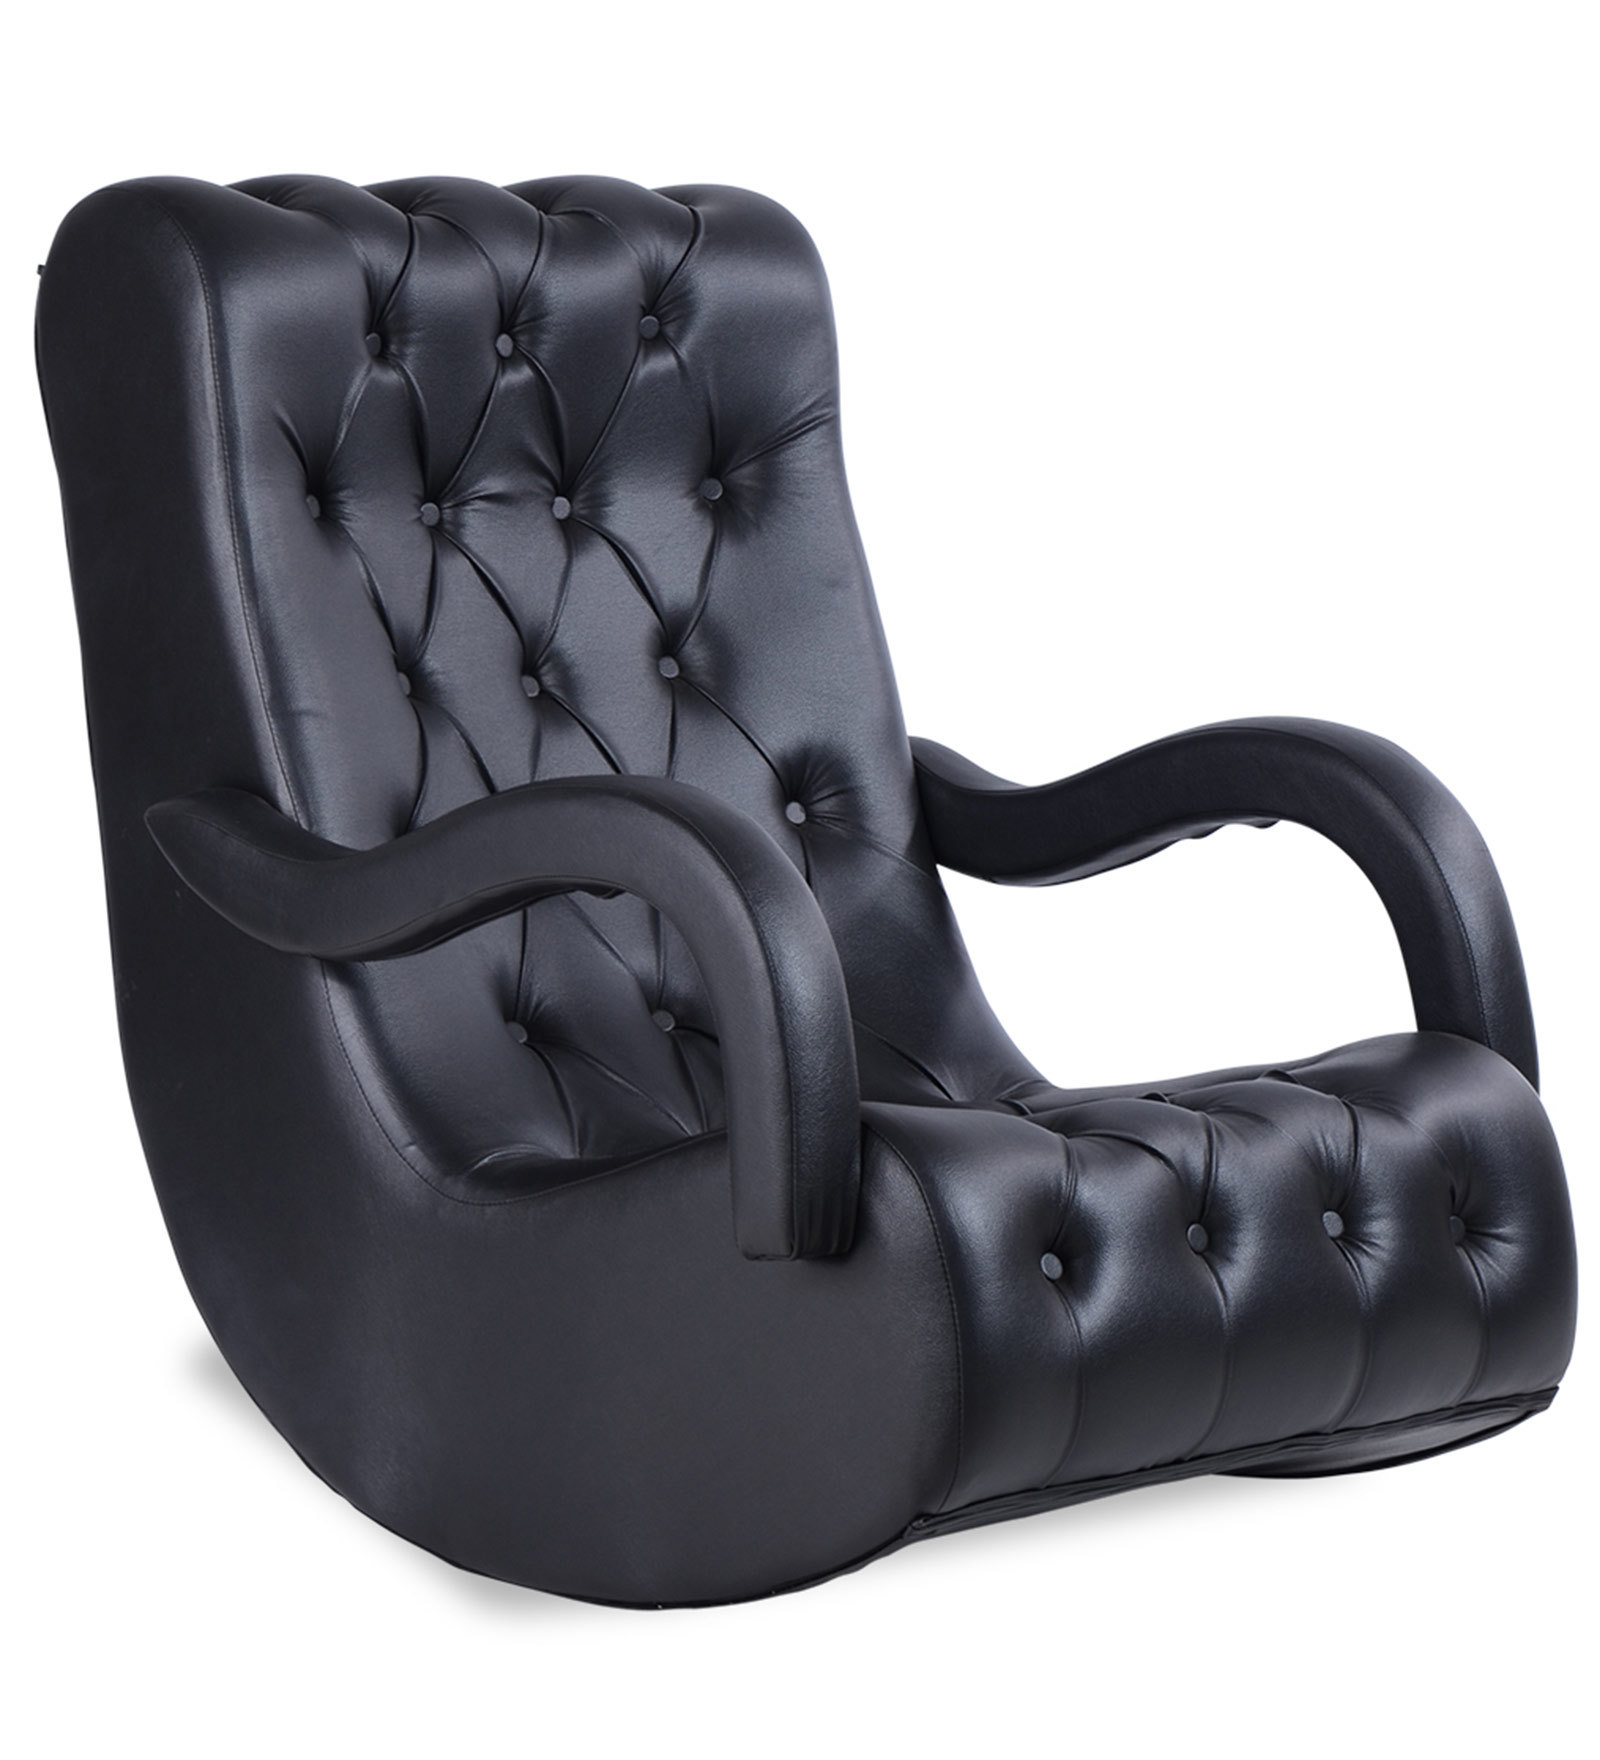Low Seat Rocking Chair with Arm Rest in Black Leatherette by Durian: (29, 169, 1583, 1625)
